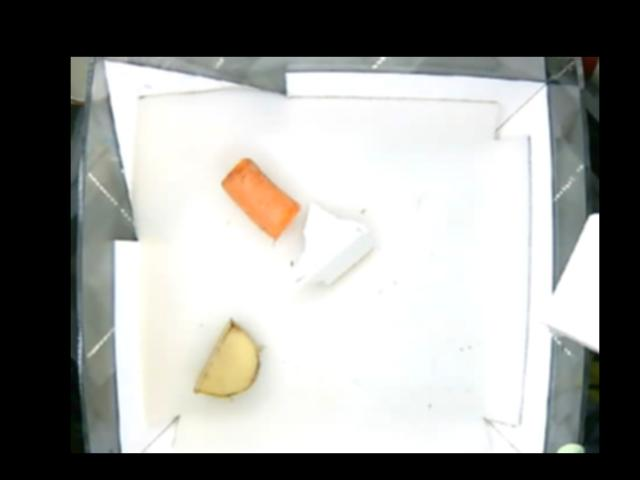Carrot: (220, 157, 296, 240)
China: (287, 202, 375, 292)
Potato: (189, 317, 258, 393)
